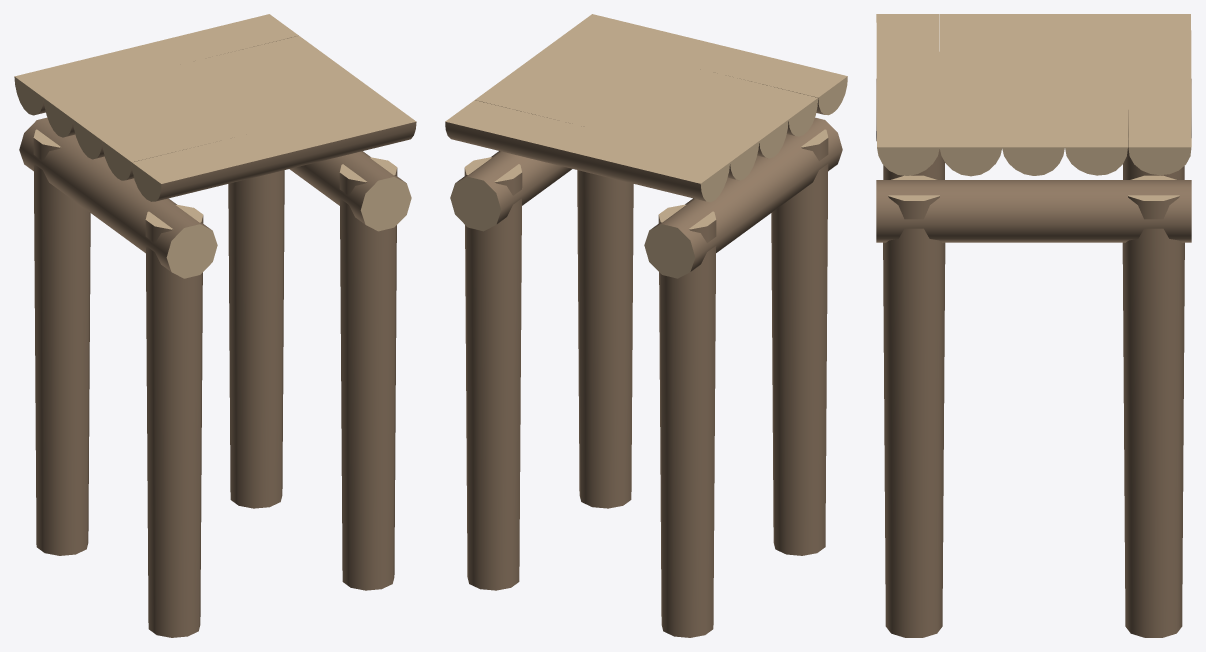
File: log_foundation_quarter.glb
The picture shows the model from 3 angles, left to right: view 1: azimuth 30°, elevation 25°; view 2: azimuth 150°, elevation 25°; view 3: azimuth 270°, elevation 25°; orthographic projection. The views are drawn at different scales.
Parts seen in each view (by area): view 1: Foundation; view 2: Foundation; view 3: Foundation.
Part boxes in pixels (<box>): Foundation: <box>14,14,416,637</box>; Foundation: <box>445,14,847,637</box>; Foundation: <box>876,14,1191,637</box>.
Bounding box in the file's own units: 1.5 × 2.6 × 1.5.
